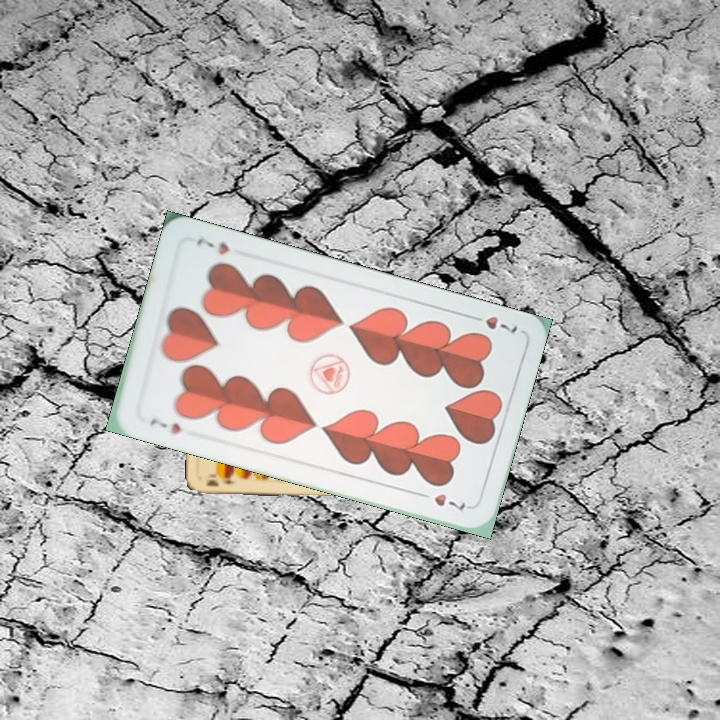E10: (202, 471, 239, 489)
H7: (464, 310, 521, 336), (145, 413, 184, 437)
